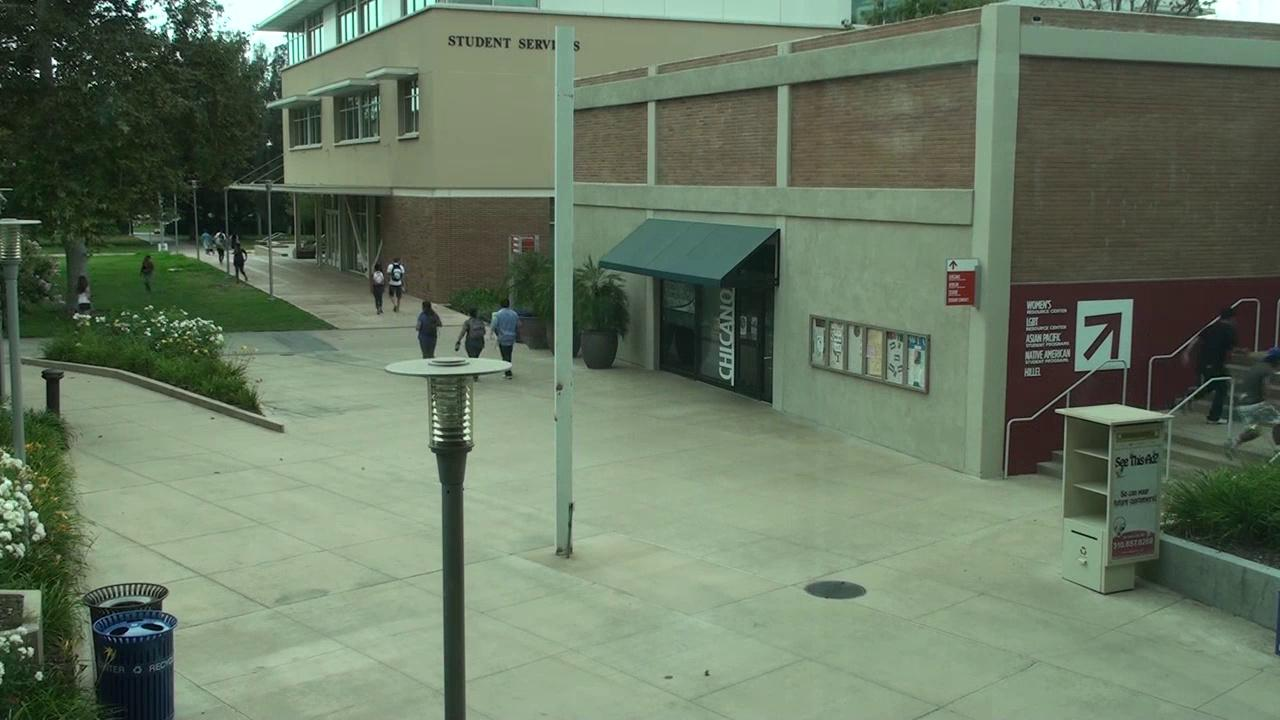person: (1227, 347, 1279, 453), (1195, 308, 1241, 381), (492, 299, 518, 361), (455, 308, 486, 357), (415, 300, 441, 357), (1192, 383, 1229, 423), (387, 257, 405, 311), (371, 265, 386, 314), (232, 241, 246, 281), (140, 255, 154, 293)
